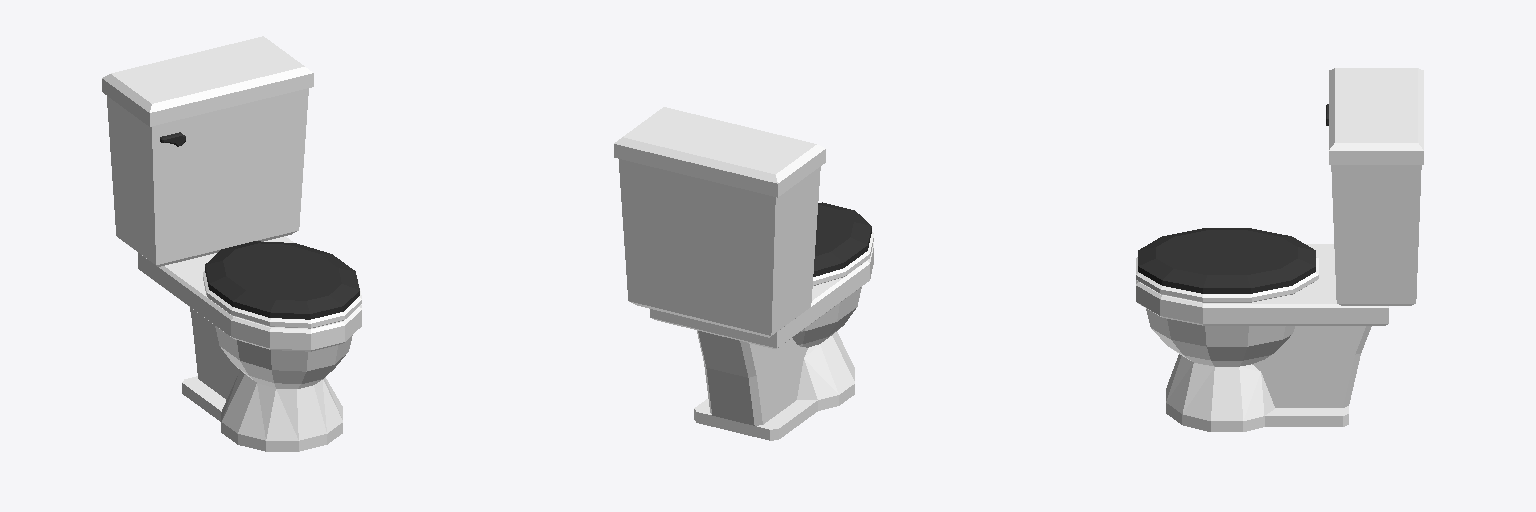
File: Toilet.obj
3 renders of one model, left to right at view 1: azimuth 30°, elevation 25°; view 2: azimuth 150°, elevation 25°; view 3: azimuth 270°, elevation 25°, orthographic.
Parts seen in each view (by area): view 1: mergedBlocks; view 2: mergedBlocks; view 3: mergedBlocks.
Boxes of the visible parts, x1,y1,x2,y2 form: mergedBlocks: [102, 36, 361, 451]; mergedBlocks: [614, 107, 873, 440]; mergedBlocks: [1136, 68, 1423, 431].
Size of the model in its own units: 0.5858 by 1.03 by 0.8925.